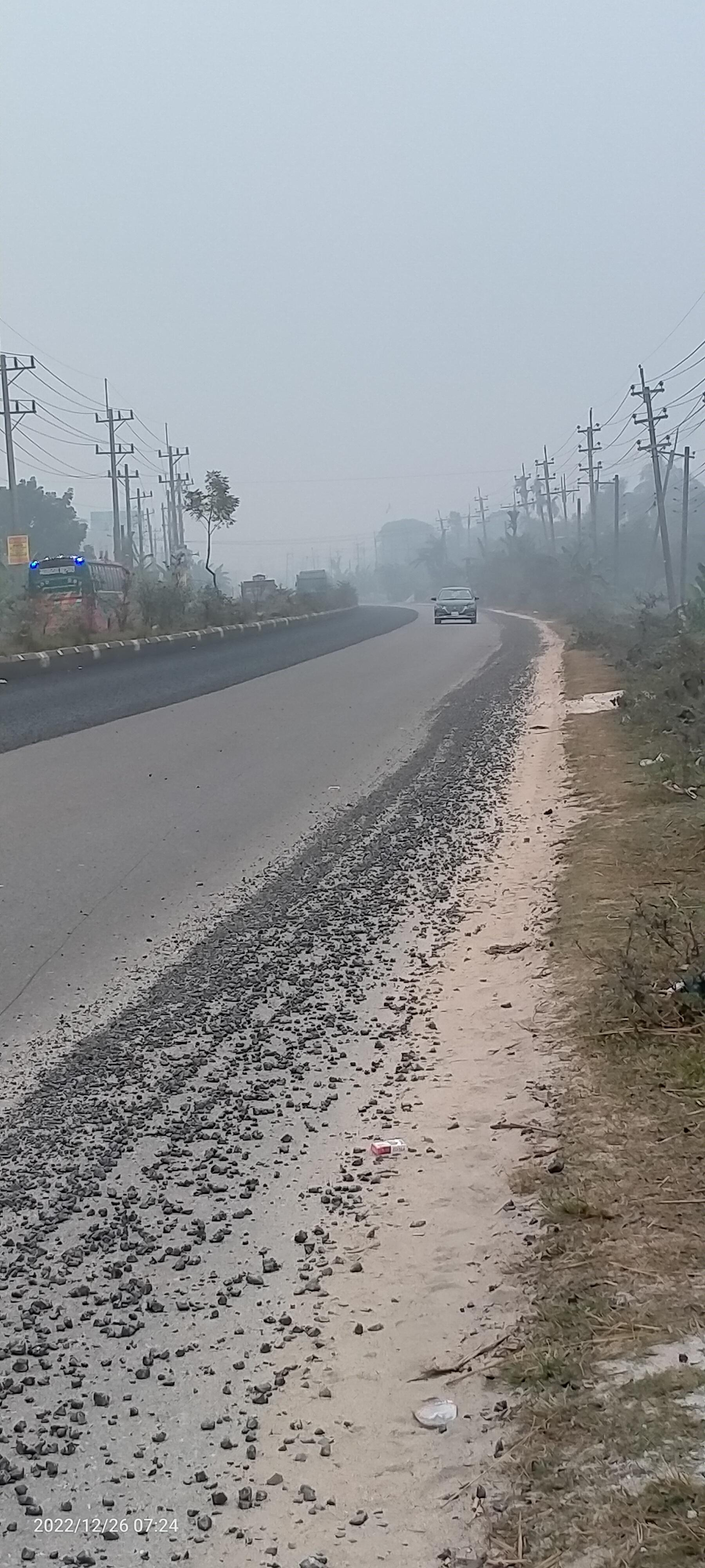Bus: (11, 544, 161, 640)
Car: (416, 568, 497, 635)
